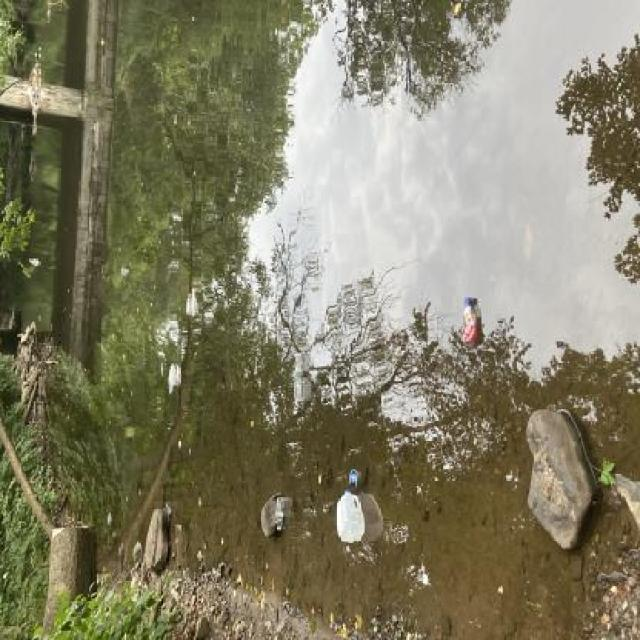Can-Metal: (346, 466, 362, 488)
Plastic: (329, 483, 371, 549), (452, 293, 484, 352), (273, 492, 290, 535)
